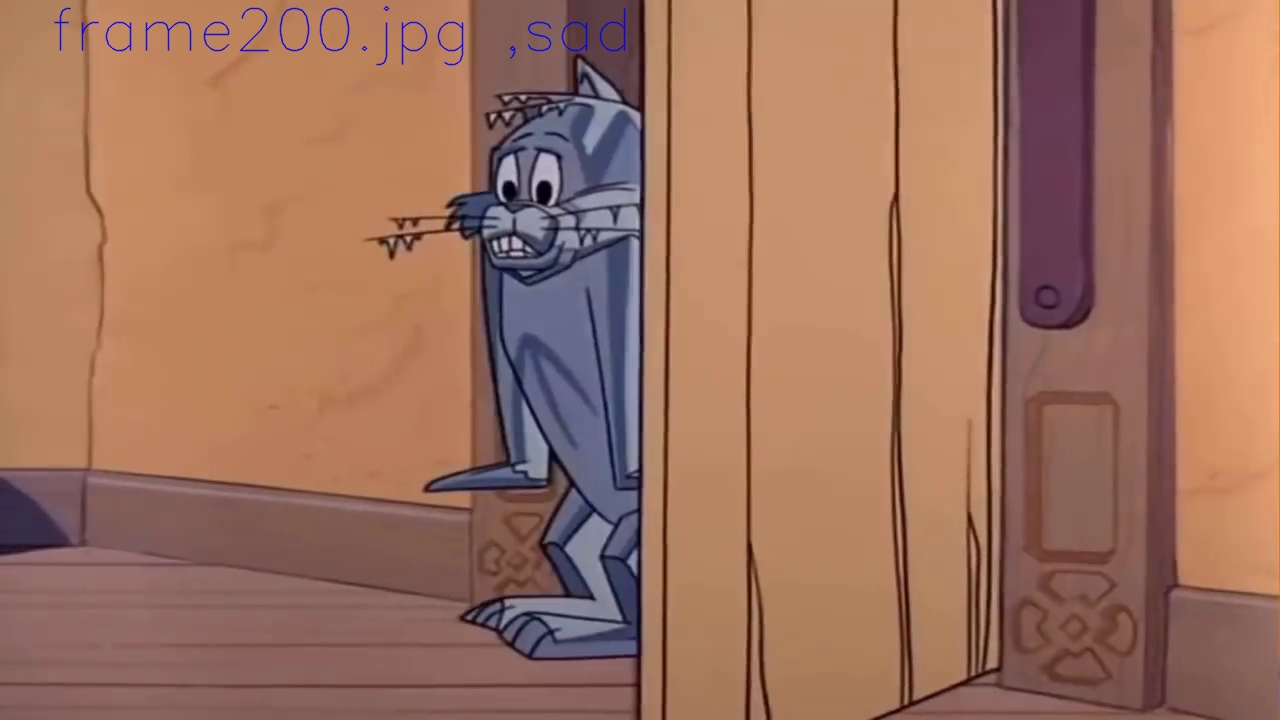sad: (479, 131, 566, 274)
